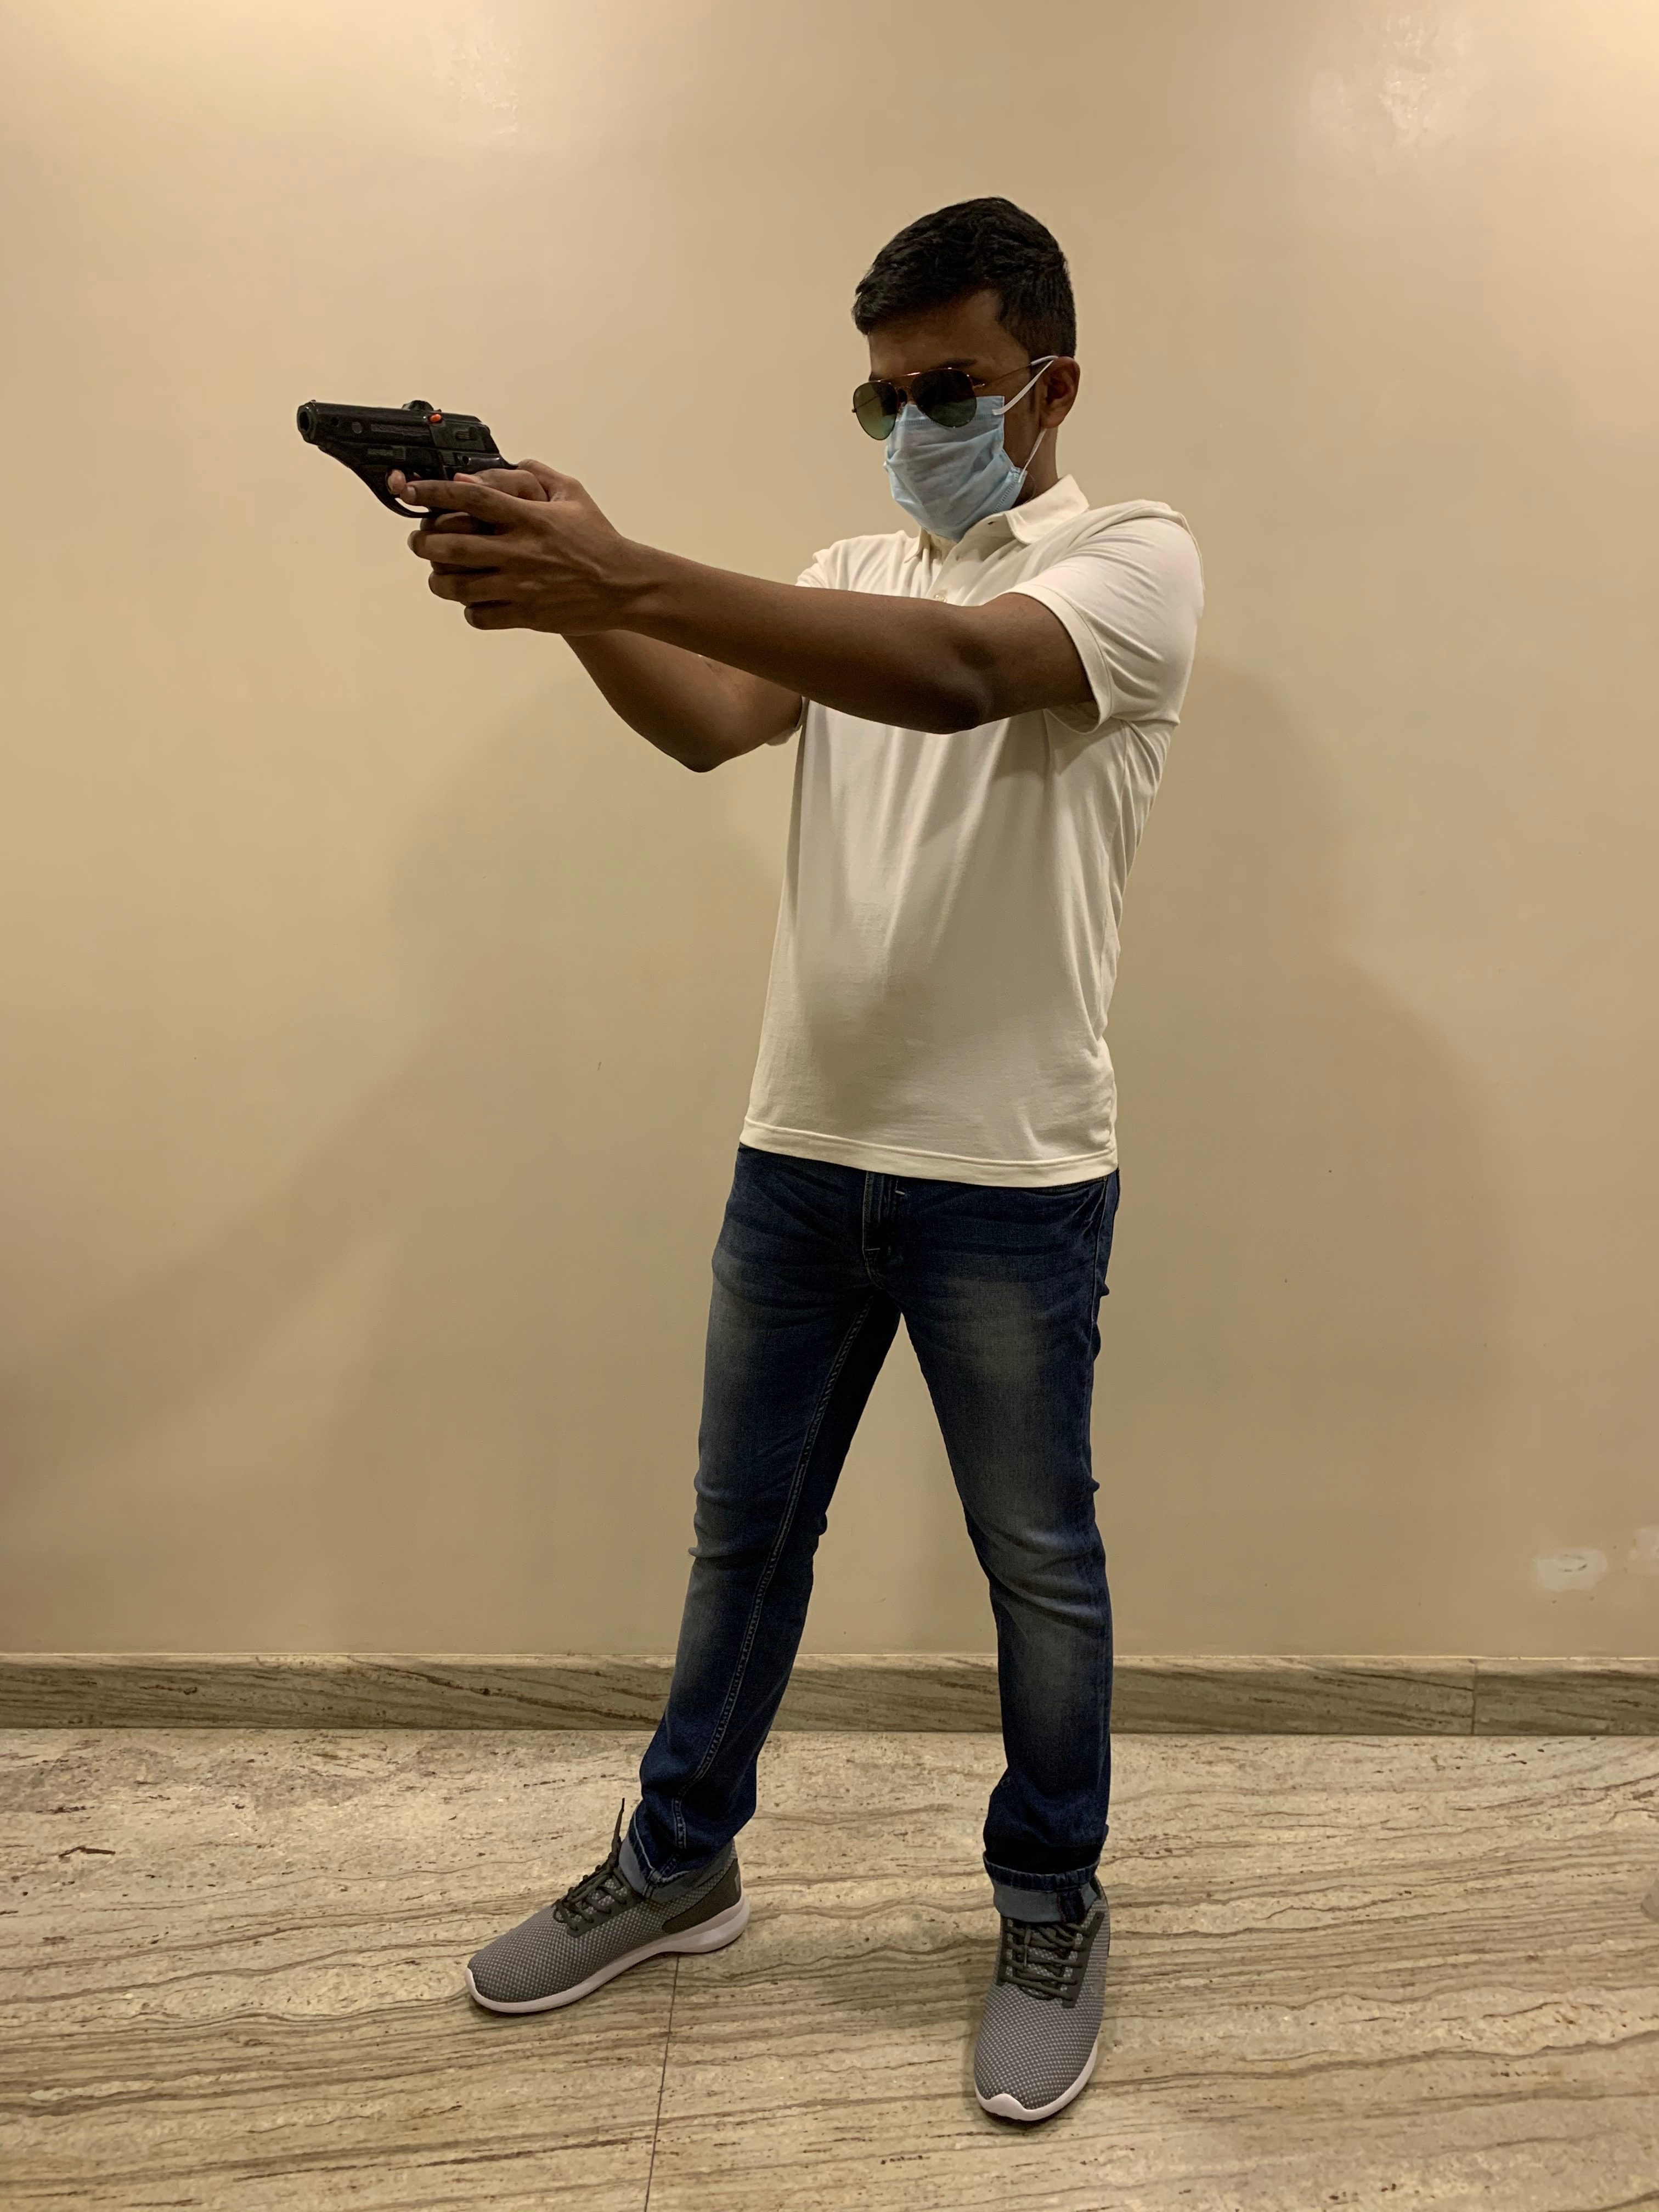gun: (291, 390, 481, 529)
